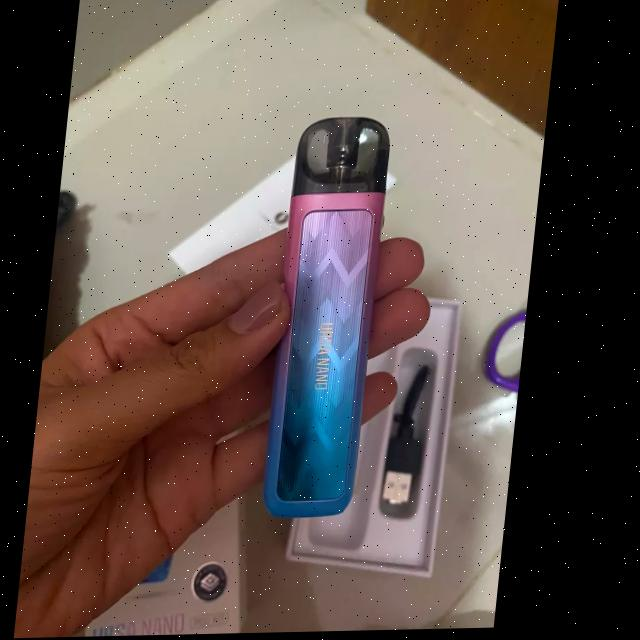vape: (268, 116, 397, 516)
